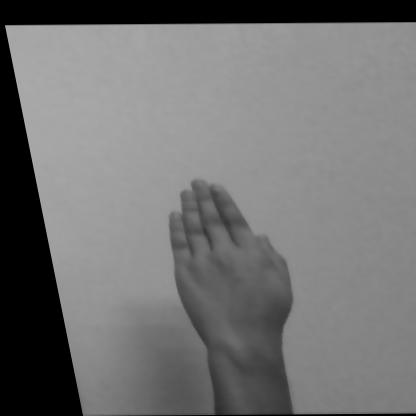palm: (91, 161, 349, 414)
